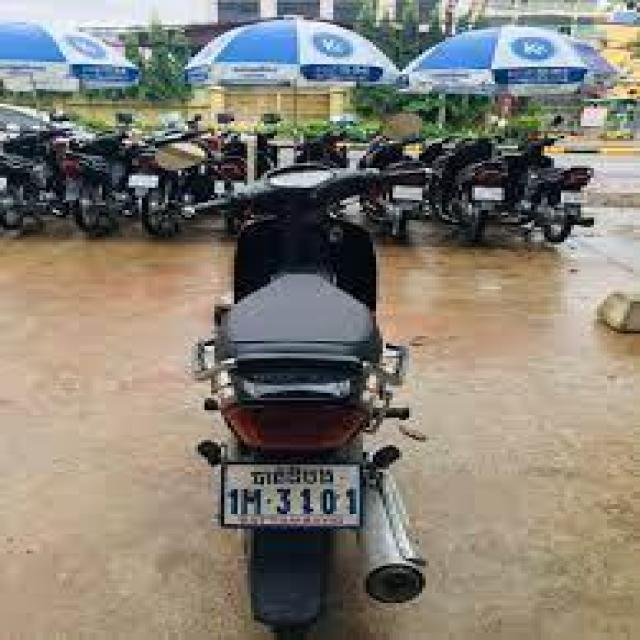Battambang: (251, 467, 336, 488)
